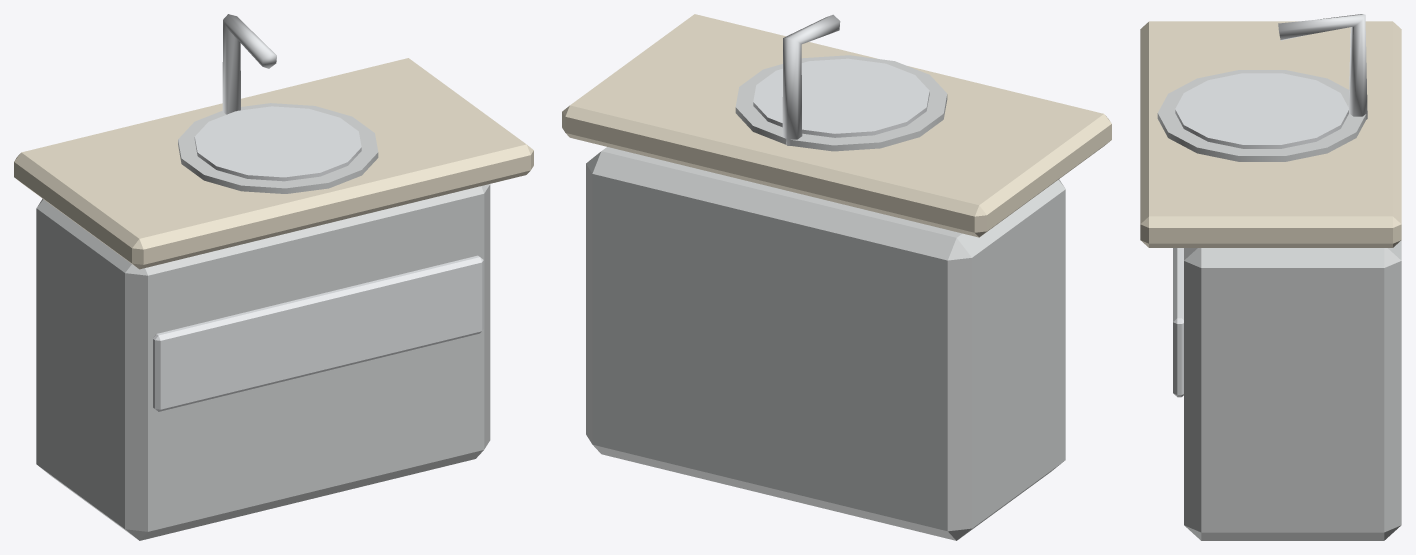
Rendered from hm_sink.glb.
The picture shows the model from 3 angles, left to right: view 1: azimuth 30°, elevation 25°; view 2: azimuth 150°, elevation 25°; view 3: azimuth 270°, elevation 25°; orthographic projection. The views are drawn at different scales.
Parts seen in each view (by area): view 1: hm_sink; view 2: hm_sink; view 3: hm_sink.
Boxes of the visible parts, x1,y1,x2,y2 form: hm_sink: (14, 14, 533, 540); hm_sink: (562, 14, 1111, 540); hm_sink: (1140, 14, 1401, 540).
Size of the model in its own units: 1.1 by 1.12 by 0.6.
